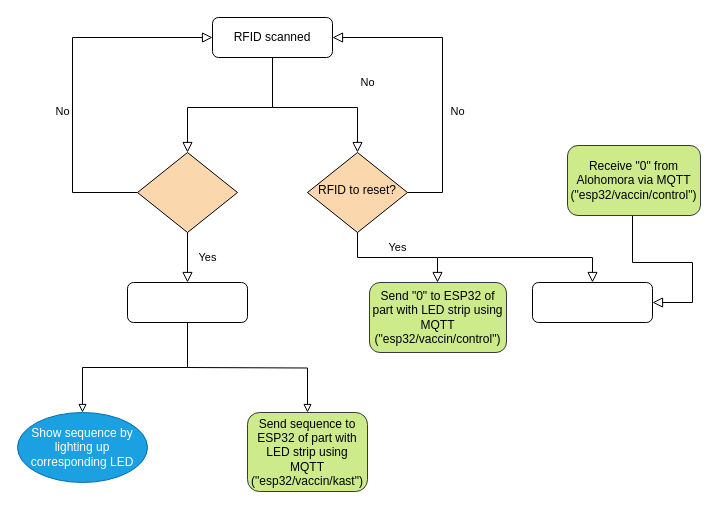
Some shapes in this 720 by 509 pixel diagram are drawn without their labels. The shapes that lost their labels are listed below. From the top down, each one's centre as x and y in pixels, then its label:
the point at 187,192: RFID to start?
the point at 187,302: Create sequence of 7 colors
the point at 592,302: Clear sequence
